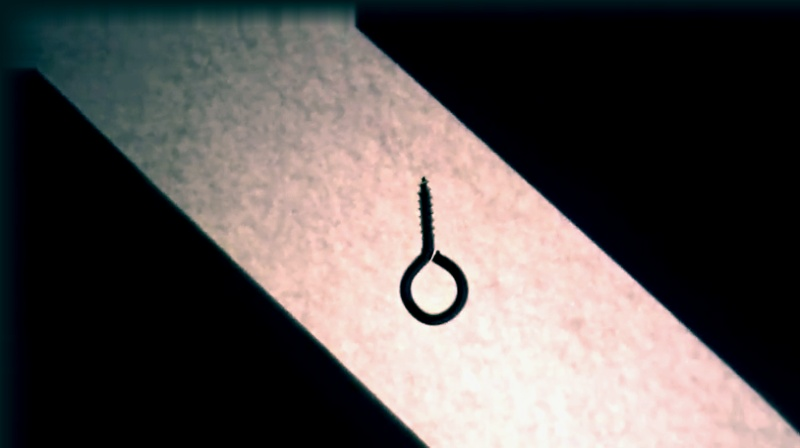O001: (398, 172, 472, 326)
